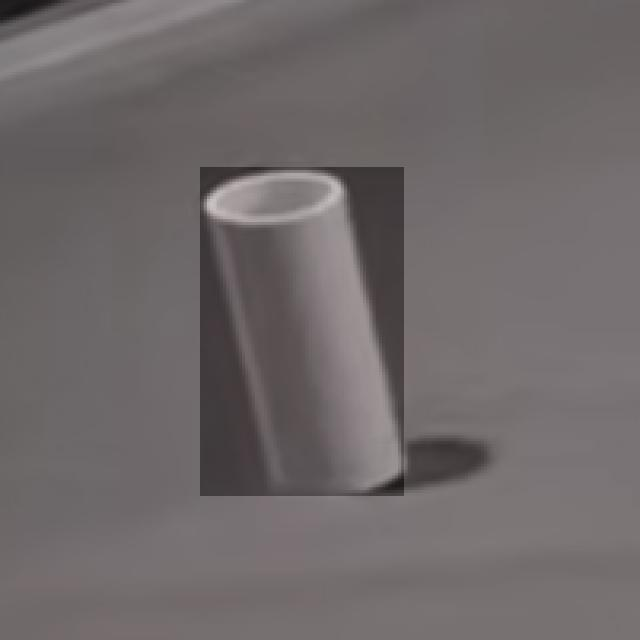Coral: (200, 167, 404, 496)
